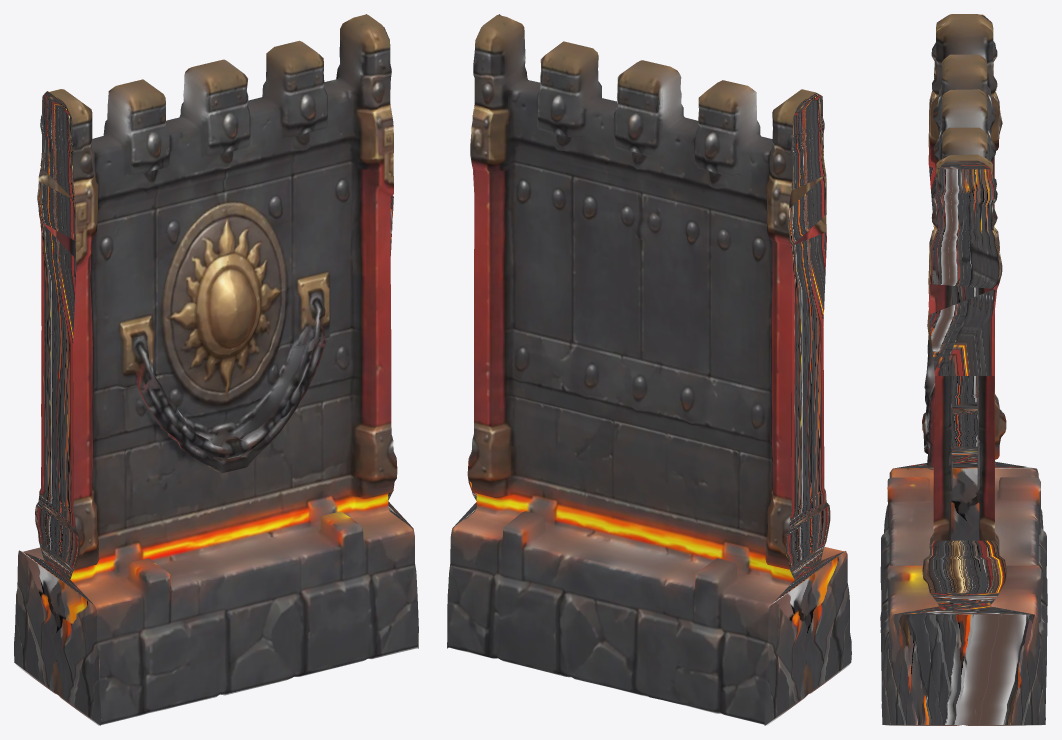
The model's file is SM_Tripo_InfernoRampartPanel.glb.
The picture shows the model from 3 angles, left to right: view 1: azimuth 30°, elevation 25°; view 2: azimuth 150°, elevation 25°; view 3: azimuth 270°, elevation 25°; orthographic projection. The views are drawn at different scales.
Visible parts, largest first — view 1: SM_Tripo_InfernoRampartPanel_LOD0; view 2: SM_Tripo_InfernoRampartPanel_LOD0; view 3: SM_Tripo_InfernoRampartPanel_LOD0.
Part boxes in pixels (<box>): SM_Tripo_InfernoRampartPanel_LOD0: <box>14,14,418,725</box>; SM_Tripo_InfernoRampartPanel_LOD0: <box>447,14,851,725</box>; SM_Tripo_InfernoRampartPanel_LOD0: <box>880,14,1047,725</box>.
Size of the model in its own units: 4.9 by 8.82 by 2.36.
1 material, 1 textured.
